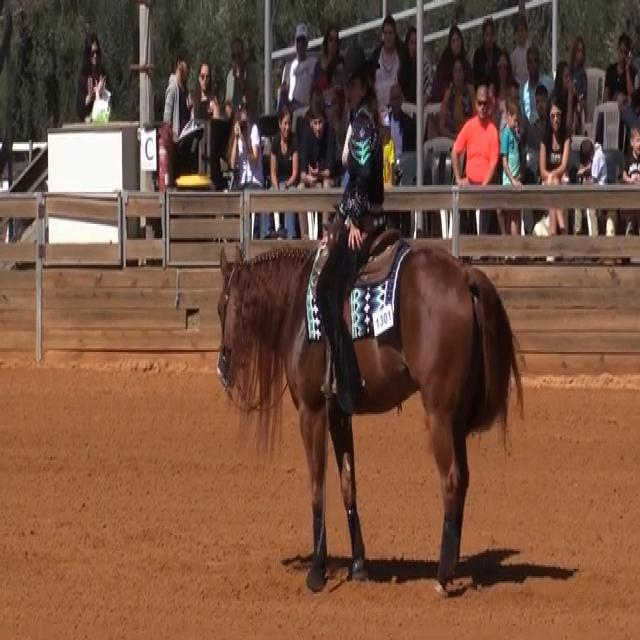horse: (214, 228, 525, 596)
